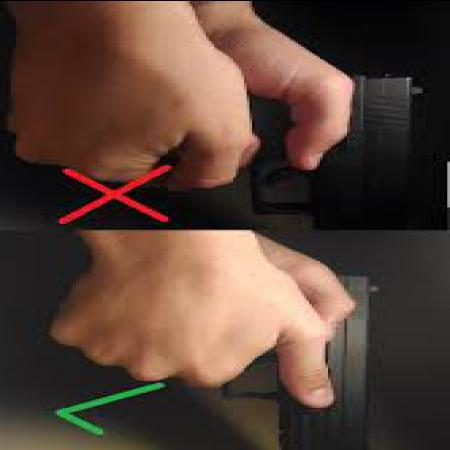Pistol: (225, 68, 436, 233)
